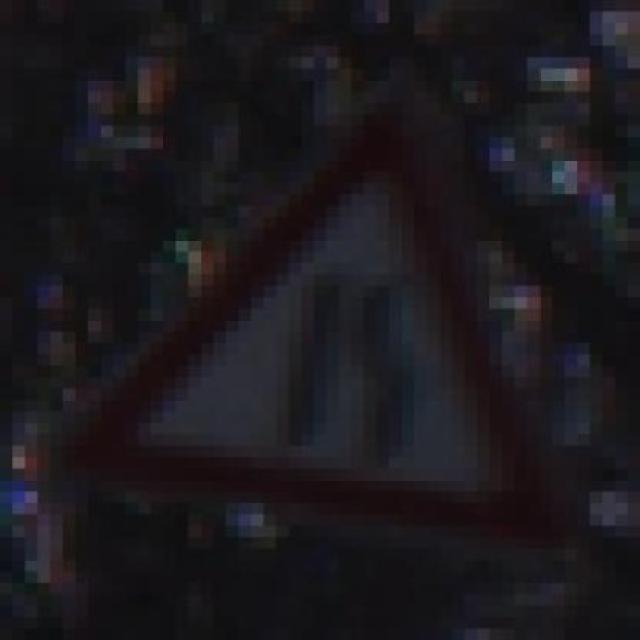-Road narrows on right: (75, 102, 590, 548)
